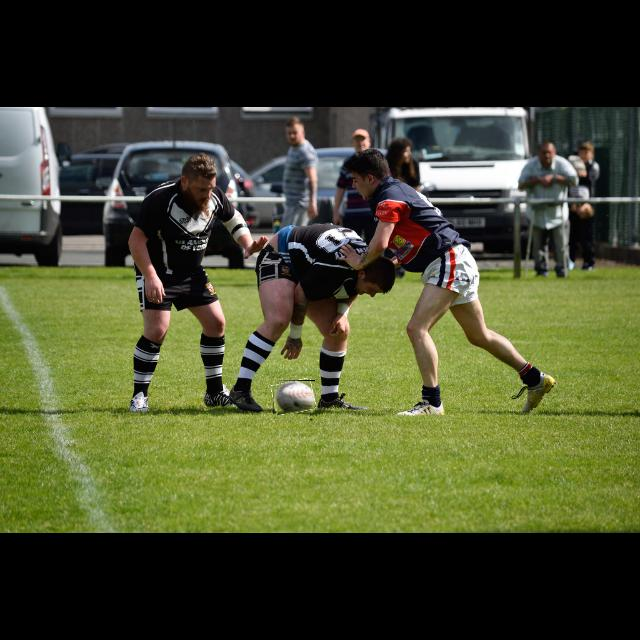Football: (273, 380, 315, 414)
